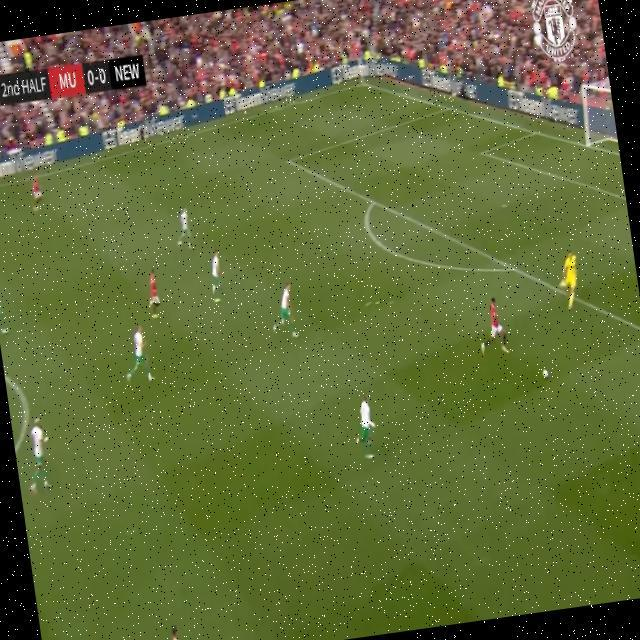TeamViewer: (508, 79, 581, 136), (102, 112, 189, 149), (421, 60, 480, 107), (223, 83, 300, 117), (332, 57, 401, 87), (0, 147, 59, 182)
